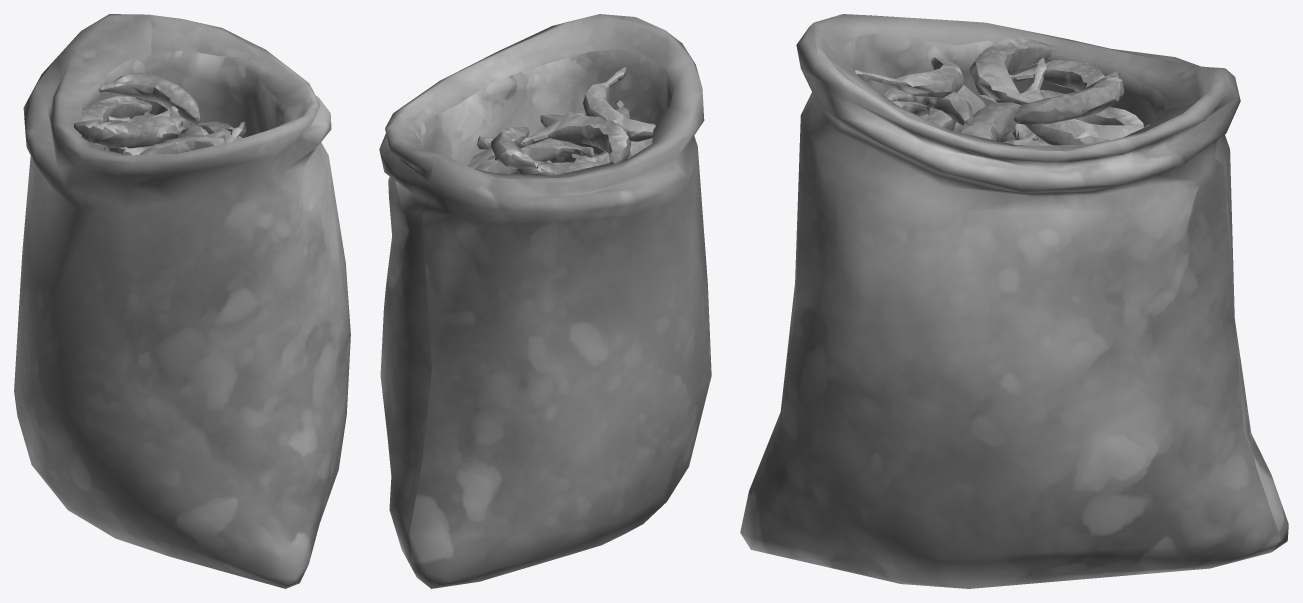
Rendered from SM_Sack_Banana_Mix_01a.fbx.
3 renders of one model, left to right at view 1: azimuth 30°, elevation 25°; view 2: azimuth 150°, elevation 25°; view 3: azimuth 270°, elevation 25°, orthographic. The views are drawn at different scales.
Parts seen in each view (by area): view 1: SM_Sack_Banana_Mix_01a_LOD0; view 2: SM_Sack_Banana_Mix_01a_LOD0; view 3: SM_Sack_Banana_Mix_01a_LOD0.
Part boxes in pixels (box(x1,y1,x2,y2)): SM_Sack_Banana_Mix_01a_LOD0: box(14, 14, 350, 588); SM_Sack_Banana_Mix_01a_LOD0: box(379, 14, 711, 588); SM_Sack_Banana_Mix_01a_LOD0: box(740, 14, 1288, 588).
Bounding box in the file's own units: 65.83 × 94.51 × 97.29.
